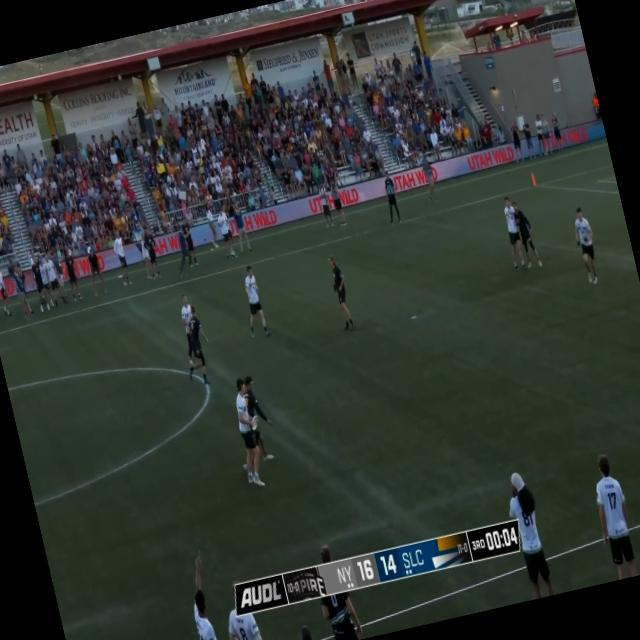Disc: (249, 415, 260, 430)
Player: (226, 377, 268, 488), (238, 372, 280, 464), (175, 302, 218, 388), (570, 204, 604, 284), (238, 265, 270, 338), (510, 200, 542, 270), (326, 254, 355, 328), (174, 294, 202, 368), (499, 196, 526, 272)
